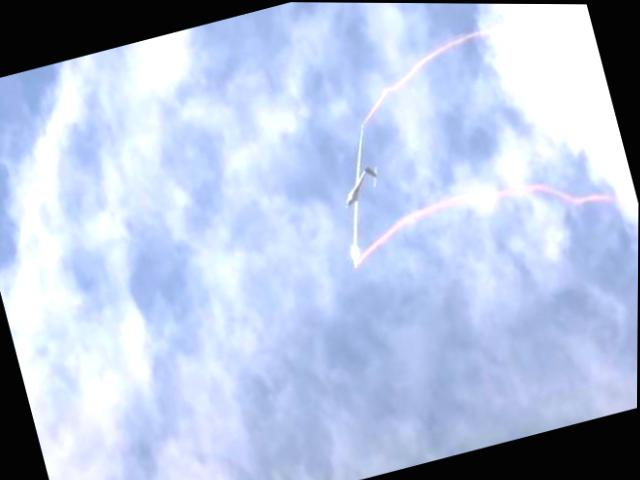iha: (319, 123, 399, 266)
